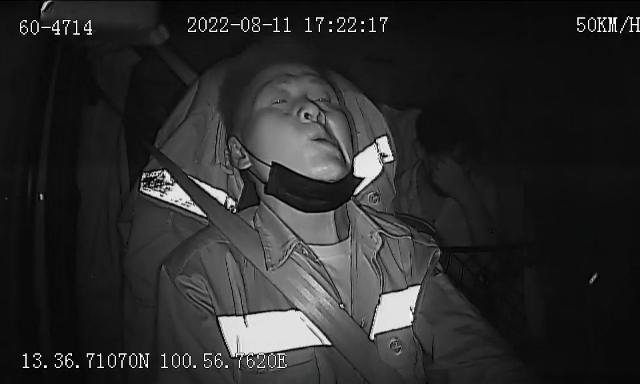SafeDriving: (294, 101, 316, 124)
Seatbelt: (150, 144, 406, 384)
